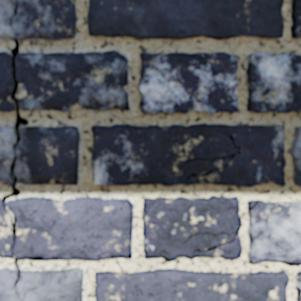brick: (92, 125, 285, 186), (88, 0, 283, 39), (143, 196, 241, 259), (95, 269, 288, 300), (139, 53, 237, 113), (248, 201, 300, 263), (247, 53, 300, 112), (291, 128, 300, 185), (291, 0, 300, 37), (296, 271, 300, 300), (248, 201, 254, 206)
broken_brick: (8, 196, 133, 260), (16, 50, 129, 112), (15, 125, 80, 185), (0, 0, 76, 40), (0, 267, 83, 300), (0, 126, 14, 184), (0, 51, 13, 112), (0, 205, 12, 258)
crack: (0, 2, 29, 298), (183, 227, 240, 255), (249, 201, 257, 210)
